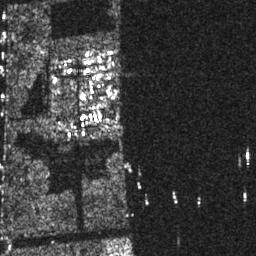ship: (171, 191, 179, 204), (245, 149, 251, 165), (125, 162, 133, 172), (243, 192, 247, 202), (137, 182, 142, 189), (145, 198, 149, 206)
